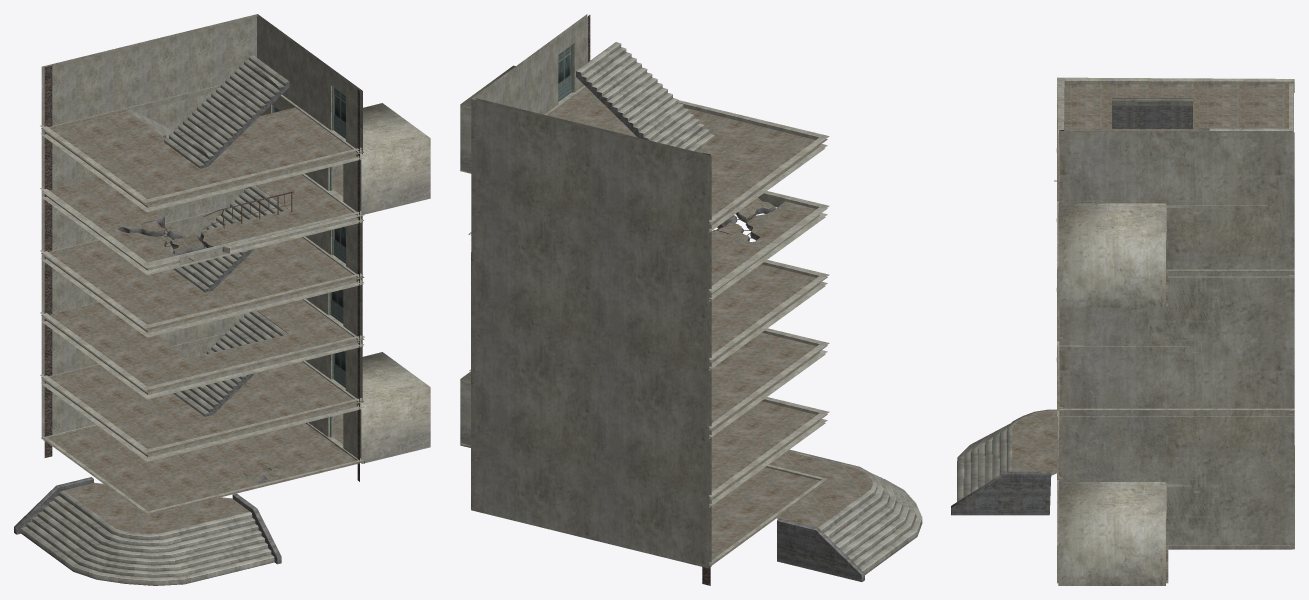
Rendered from corner_building_a_inteior.FBX.
The picture shows the model from 3 angles, left to right: view 1: azimuth 30°, elevation 25°; view 2: azimuth 150°, elevation 25°; view 3: azimuth 270°, elevation 25°; orthographic projection. The views are drawn at different scales.
Visible parts, largest first — view 1: corner_building_a_inteior; view 2: corner_building_a_inteior; view 3: corner_building_a_inteior.
Boxes of the visible parts, x1,y1,x2,y2 form: corner_building_a_inteior: (14,14,430,585); corner_building_a_inteior: (460,14,922,585); corner_building_a_inteior: (951,77,1294,585).
Bounding box in the file's own units: 2078 × 2219 × 1509.
